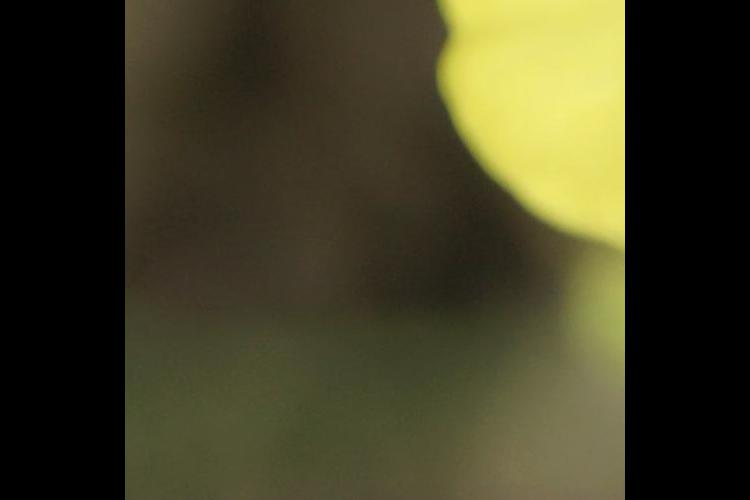yellow: (428, 1, 625, 232)
